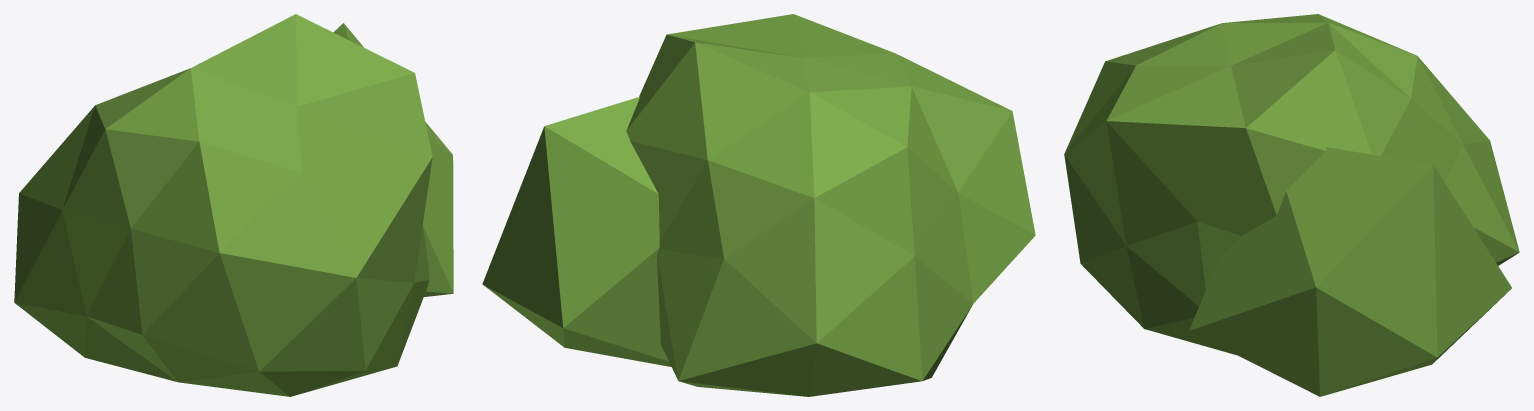
Rendered from shrub_a_lod1.glb.
3 views of the same model, side by side, from view 1: azimuth 30°, elevation 25°; view 2: azimuth 150°, elevation 25°; view 3: azimuth 270°, elevation 25° (orthographic). The views are drawn at different scales.
Visible parts, largest first — view 1: shrub; view 2: shrub; view 3: shrub.
Part boxes in pixels (<box>): shrub: <box>14,14,453,396</box>; shrub: <box>482,14,1035,396</box>; shrub: <box>1064,14,1519,396</box>.
Size of the model in its own units: 2.22 by 1.47 by 2.19.
